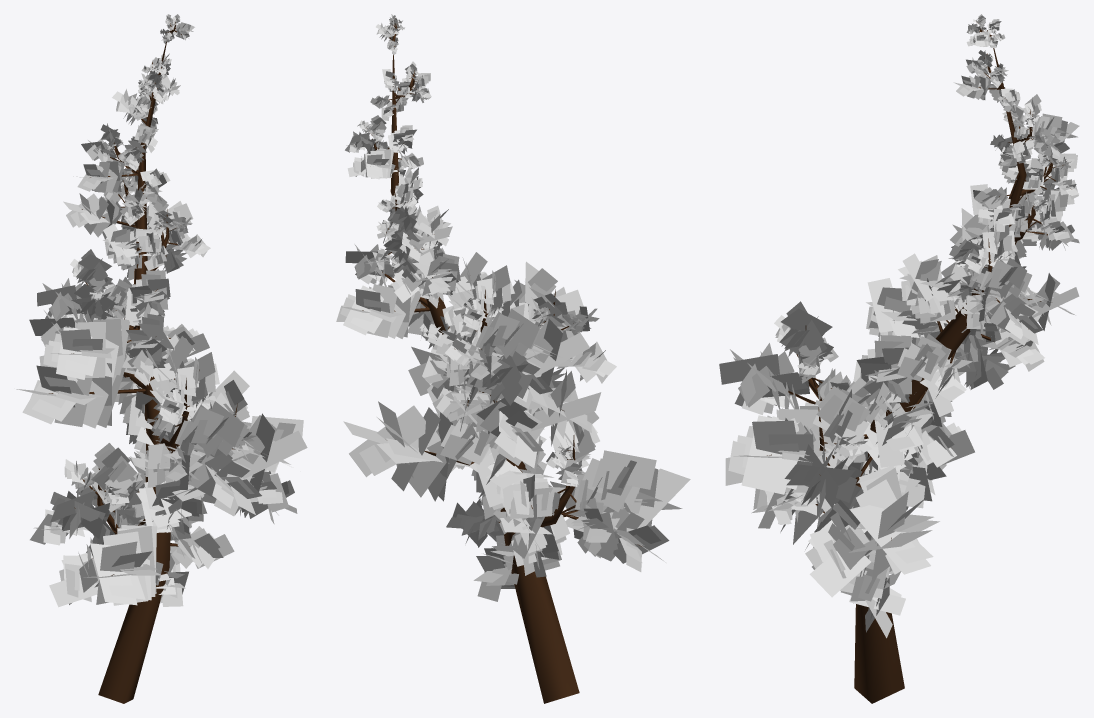
File: koks2mesh.fbx
The picture shows the model from 3 angles, left to right: view 1: azimuth 30°, elevation 25°; view 2: azimuth 150°, elevation 25°; view 3: azimuth 270°, elevation 25°; orthographic projection. The views are drawn at different scales.
Parts seen in each view (by area): view 1: Koks2.004; view 2: Koks2.004; view 3: Koks2.004.
Boxes of the visible parts, left/top/right/bottom form: Koks2.004: left=16, top=14, right=307, bottom=703; Koks2.004: left=336, top=14, right=690, bottom=703; Koks2.004: left=719, top=14, right=1079, bottom=703.
Size of the model in its own units: 28.23 by 64.56 by 28.47.
